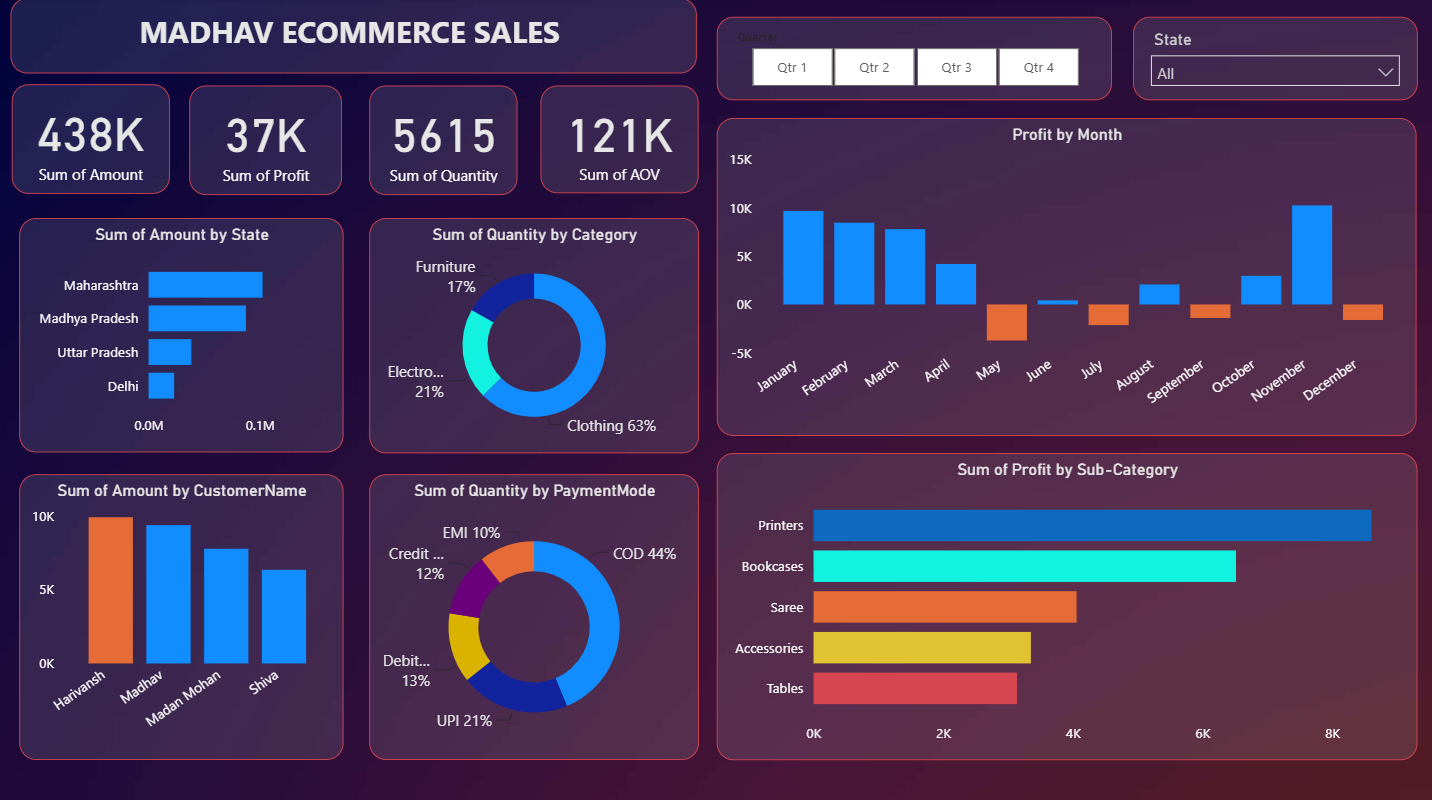

What the dashboard file says about the page in this screenshot:
{"tool":"powerbi","page":{"name":"Page 1","canvas":[1280,720],"ordinal":0},"visuals":[{"type":"textbox","box":[11.4,0,611.4,67.1],"z":0},{"type":"columnChart","title":" Profit by Month","fields":{"Category":["Orders.Order Date.Variation.Date Hierarchy.Month"],"Y":["Sum(Details.Profit)"]},"box":[640,107.1,622.9,282.9],"z":1000},{"type":"barChart","fields":{"Category":["Details.Sub-Category"],"Y":["Sum(Details.Profit)"]},"box":[640.1,404.7,623.6,274],"z":2000},{"type":"donutChart","fields":{"Category":["Details.Category"],"Y":["Sum(Details.Quantity)"]},"box":[330.4,195.5,293.2,209.3],"z":3000},{"type":"donutChart","fields":{"Category":["Details.PaymentMode","Details.Category"],"Y":["Sum(Details.Quantity)"]},"box":[330.4,424,293.2,254.7],"z":4000},{"type":"card","fields":{"Values":["Sum(Details.Amount)"]},"box":[12.4,77.1,140.4,97.7],"z":5000},{"type":"card","fields":{"Values":["Sum(Details.Profit)"]},"box":[170.7,78.5,136.3,97.7],"z":6000},{"type":"card","fields":{"Values":["Sum(Details.Quantity)"]},"box":[330.4,78.5,132.2,97.7],"z":7000},{"type":"card","fields":{"Values":["Sum(Details.AOV)"]},"box":[483.2,78.5,140.4,96.4],"z":8000},{"type":"barChart","fields":{"Category":["Orders.State","Details.Sub-Category"],"Y":["Sum(Details.Amount)"]},"box":[18.6,195.7,288.6,208.6],"z":9000},{"type":"columnChart","fields":{"Category":["Orders.CustomerName"],"Y":["Sum(Details.Amount)"]},"box":[18.6,424.3,288.6,254.3],"z":10000},{"type":"slicer","fields":{"Values":["Orders.Order Date.Variation.Date Hierarchy.Quarter"]},"box":[640.6,16.9,352.3,74.8],"z":11000},{"type":"slicer","fields":{"Values":["Orders.State"]},"box":[1011,16.9,253.4,74.8],"z":12000}]}

Visuals, with their boxes in screenshot pixels (x1, y1, x2, y2), scaled from the page's 1280x720 canvas onto the 1432x800 screenshot:
textbox: [13, 0, 697, 75]
" Profit by Month" columnChart: [716, 119, 1413, 433]
barChart - Details.Sub-Category x Sum(Details.Profit): [716, 450, 1414, 754]
donutChart - Details.Category x Sum(Details.Quantity): [370, 217, 698, 450]
donutChart - Details.PaymentMode x Details.Category: [370, 471, 698, 754]
card - Sum(Details.Amount): [14, 86, 171, 194]
card - Sum(Details.Profit): [191, 87, 343, 196]
card - Sum(Details.Quantity): [370, 87, 518, 196]
card - Sum(Details.AOV): [541, 87, 698, 194]
barChart - Orders.State x Details.Sub-Category: [21, 217, 344, 449]
columnChart - Orders.CustomerName x Sum(Details.Amount): [21, 471, 344, 754]
slicer - Orders.Order Date.Variation.Date Hierarchy.Quarter: [717, 19, 1111, 102]
slicer - Orders.State: [1131, 19, 1415, 102]
